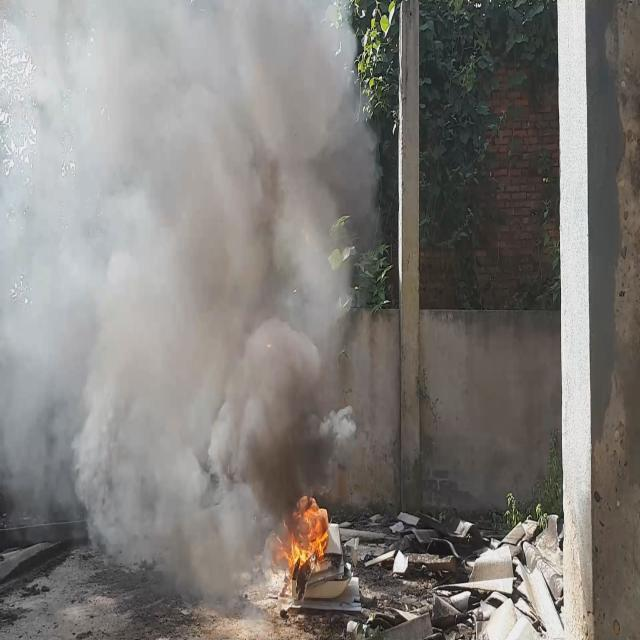Fire: (271, 490, 331, 580)
Smoke: (0, 0, 360, 583)
